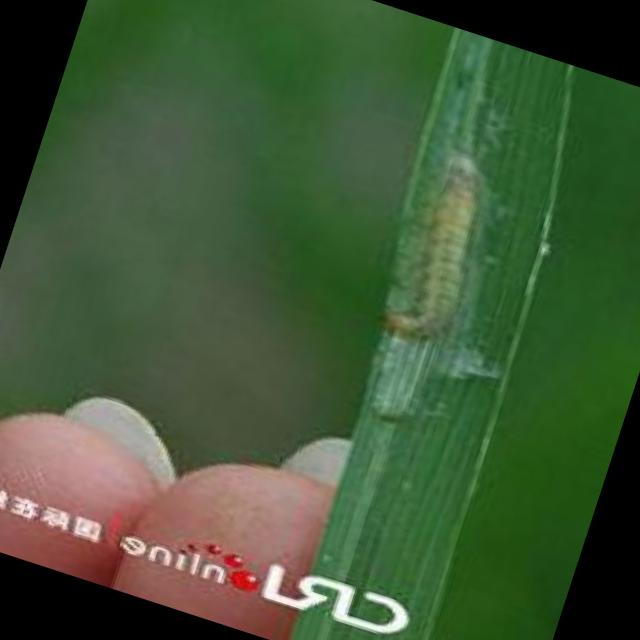leaf-folder: (318, 142, 559, 410)
